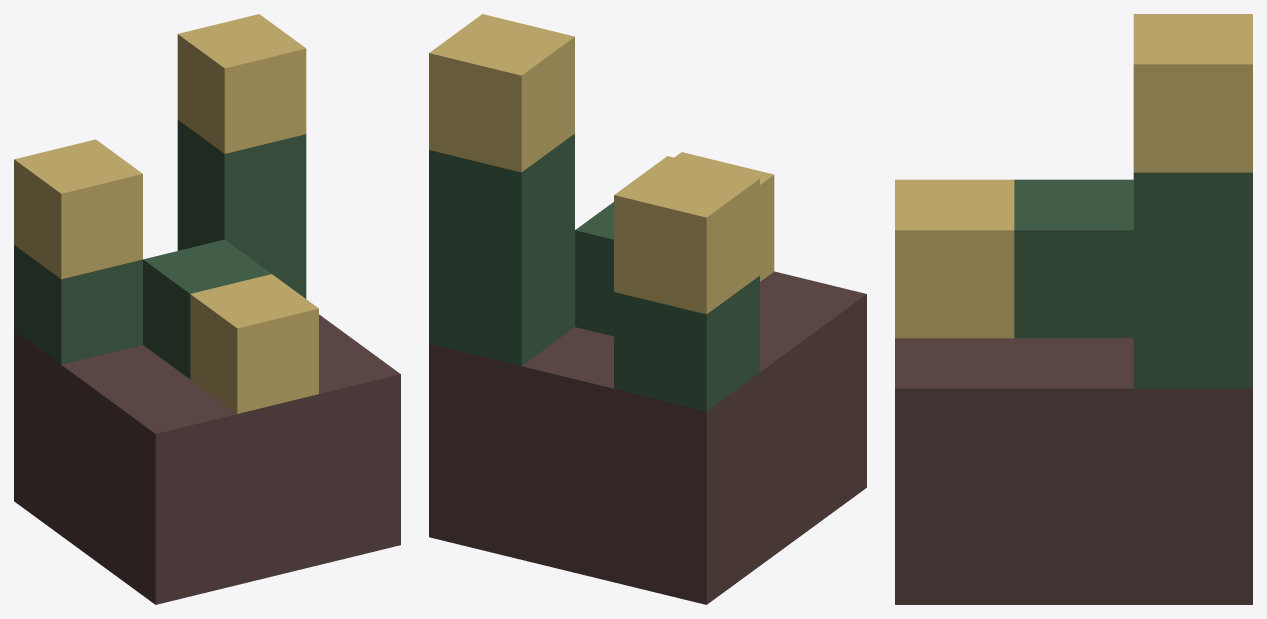
File: Corner Cafe-11.obj
The picture shows the model from 3 angles, left to right: view 1: azimuth 30°, elevation 25°; view 2: azimuth 150°, elevation 25°; view 3: azimuth 270°, elevation 25°; orthographic projection. The views are drawn at different scales.
Bounding box in the file's own units: 0.3 × 0.5 × 0.3.
Materials: 1 (1 with a texture image).
